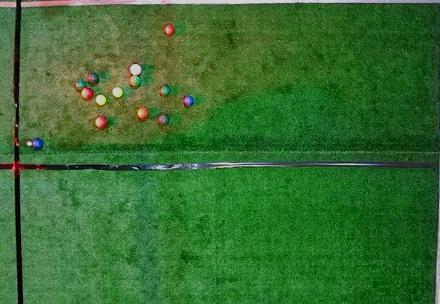blue: (183, 95, 194, 107), (32, 138, 43, 150)
green: (87, 72, 99, 84), (130, 75, 141, 87), (157, 114, 169, 125), (75, 80, 86, 91), (160, 85, 170, 95)
red: (95, 116, 107, 129), (81, 87, 93, 100), (164, 24, 175, 36), (137, 108, 149, 119), (130, 64, 141, 75)
vline: (1, 1, 26, 303), (432, 1, 439, 303)
white: (26, 141, 32, 146)
yellow: (112, 87, 123, 98), (95, 95, 107, 105)
